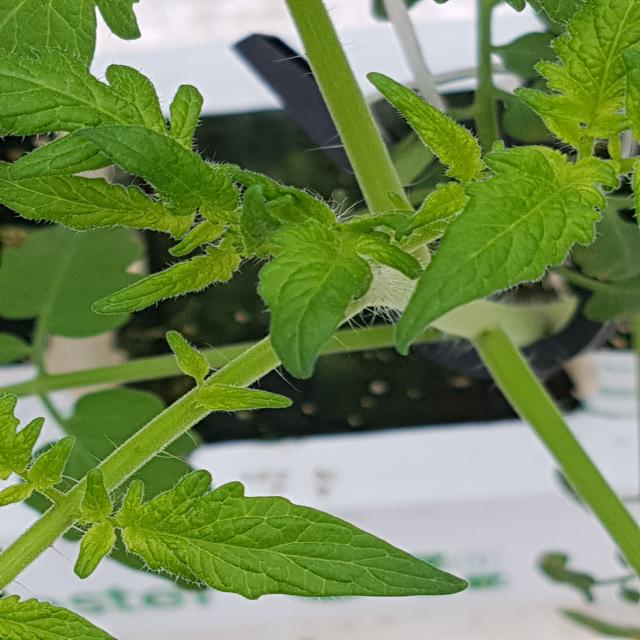Healthy Leaf: (127, 471, 469, 601), (396, 154, 605, 358), (1, 49, 207, 178), (257, 223, 377, 380), (519, 1, 640, 149), (76, 127, 243, 215), (1, 162, 183, 238), (370, 74, 486, 180), (93, 241, 243, 313)
